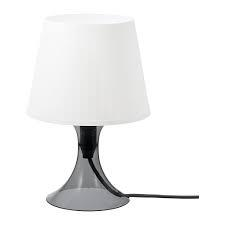Lamp: (23, 10, 153, 215)
